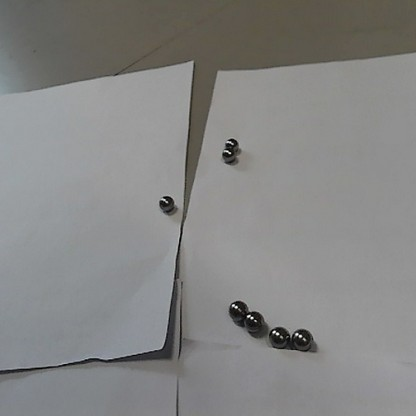ironball: (291, 328, 311, 351), (268, 325, 288, 348), (227, 298, 246, 319), (245, 310, 261, 330), (158, 194, 174, 212), (219, 147, 234, 164), (224, 137, 237, 150)
